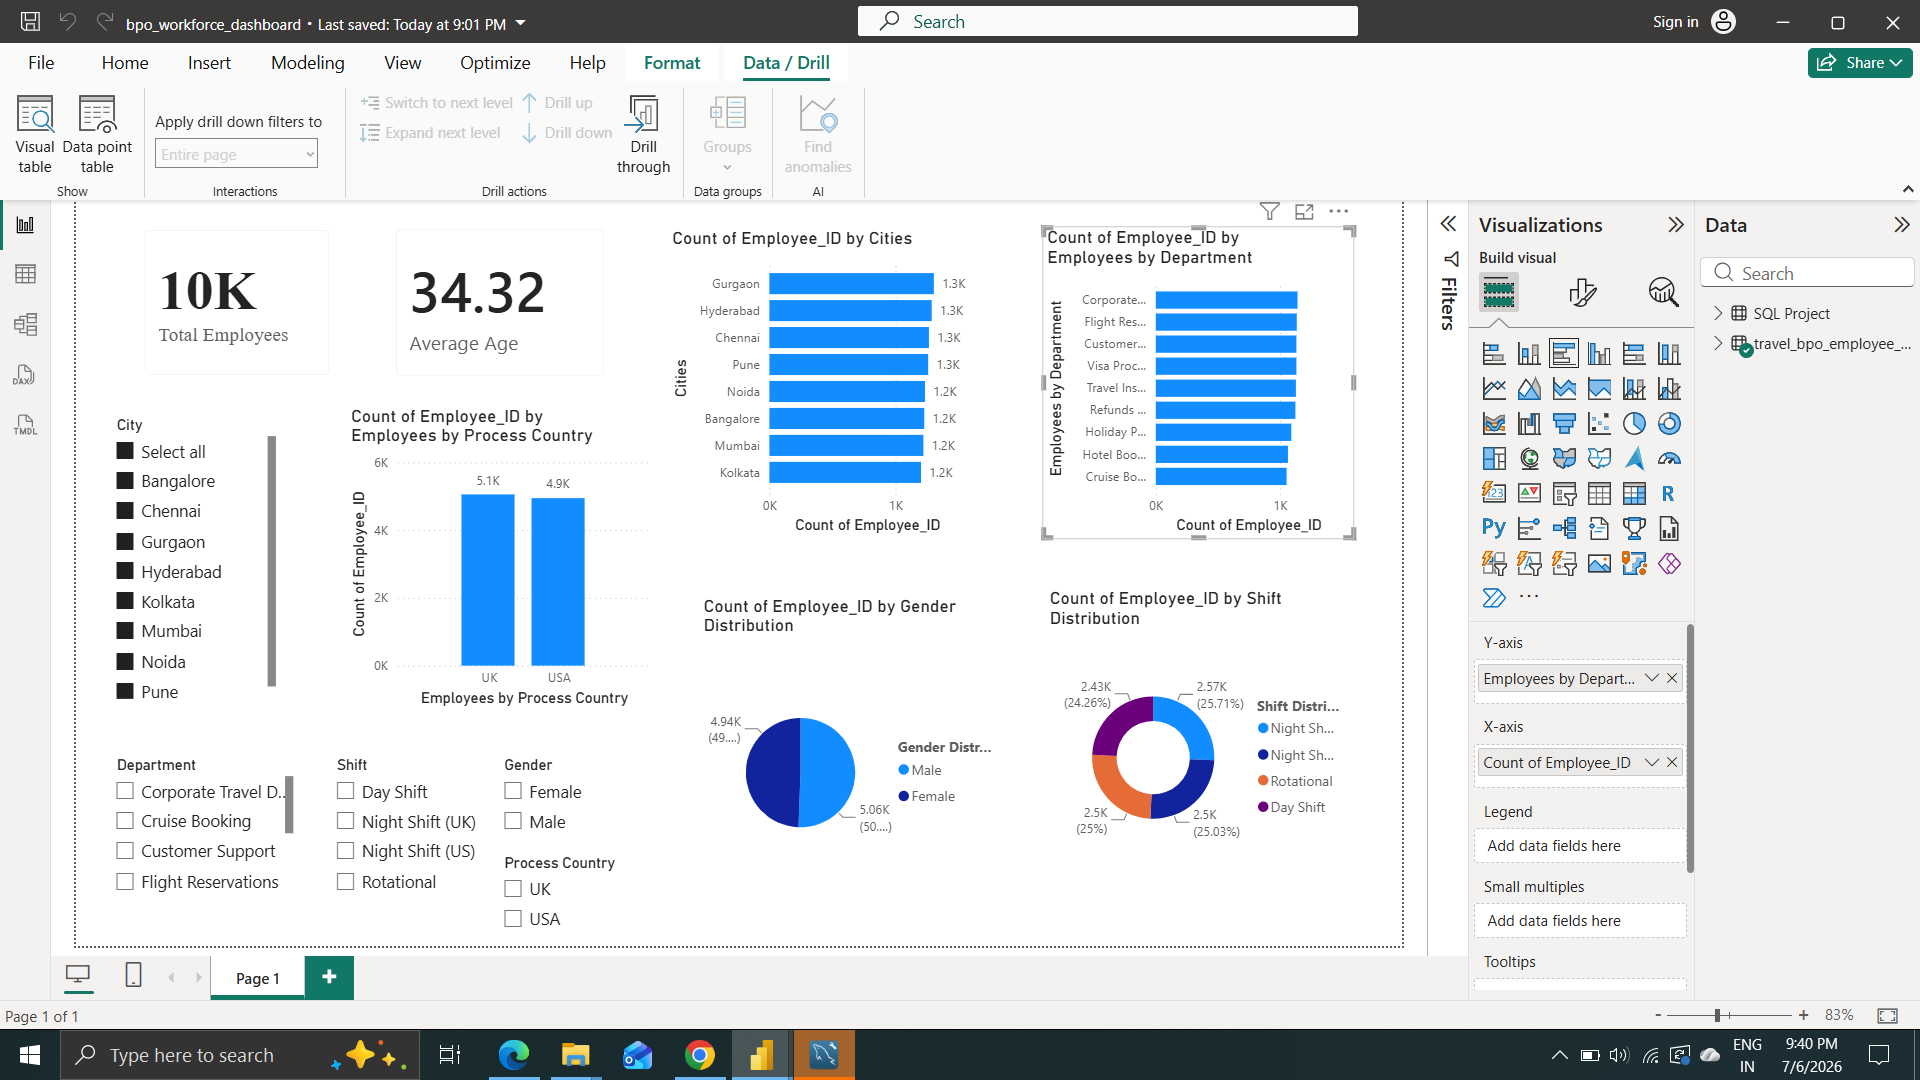

This screenshot's page, from the dashboard's own definition file:
{"tool":"powerbi","page":{"name":"Page 1","canvas":[1280,720],"ordinal":0},"visuals":[{"type":"cardVisual","fields":{"Data":["Count(travel_bpo_employee_data_simplified.Employee_ID)"]},"box":[49.5,12.1,212.3,174.9],"z":0},{"type":"cardVisual","fields":{"Data":["Avg(travel_bpo_employee_data_simplified.Age)"]},"box":[292,10.9,235.3,176.1],"z":1000},{"type":"clusteredBarChart","fields":{"Category":["travel_bpo_employee_data_simplified.City"],"Y":["CountNonNull(travel_bpo_employee_data_simplified.Employee_ID)"]},"box":[570.6,26.5,300.4,300.4],"z":2000},{"type":"pieChart","fields":{"Category":["travel_bpo_employee_data_simplified.Gender"],"Y":["CountNonNull(travel_bpo_employee_data_simplified.Employee_ID)"]},"box":[600.8,381.2,294.4,301.6],"z":3000},{"type":"clusteredBarChart","fields":{"Category":["travel_bpo_employee_data_simplified.Department"],"Y":["CountNonNull(travel_bpo_employee_data_simplified.Employee_ID)"]},"box":[932.6,25.3,301.6,301.6],"z":4000},{"type":"donutChart","fields":{"Category":["travel_bpo_employee_data_simplified.Shift"],"Y":["CountNonNull(travel_bpo_employee_data_simplified.Employee_ID)"]},"box":[935,374,296.8,287.1],"z":5000},{"type":"clusteredColumnChart","fields":{"Category":["travel_bpo_employee_data_simplified.Process_Country"],"Y":["CountNonNull(travel_bpo_employee_data_simplified.Employee_ID)"]},"box":[260.6,197.9,299.2,295.6],"z":6000},{"type":"slicer","fields":{"Values":["travel_bpo_employee_data_simplified.City"]},"box":[26.5,203.9,171.3,282.3],"z":7000},{"type":"slicer","fields":{"Values":["travel_bpo_employee_data_simplified.Department"]},"box":[26.5,532,188.2,149.6],"z":8000},{"type":"slicer","fields":{"Values":["travel_bpo_employee_data_simplified.Gender"]},"box":[400.5,532,112.2,105],"z":9000},{"type":"slicer","fields":{"Values":["travel_bpo_employee_data_simplified.Shift"]},"box":[238.9,532,171.3,150.8],"z":10000},{"type":"slicer","fields":{"Values":["travel_bpo_employee_data_simplified.Process_Country"]},"box":[400.5,626.1,148.4,94.1],"z":11000}]}

Visuals, with their boxes on the page's 1280x720 design canvas (x1, y1, x2, y2). These are canvas units, not pixel positions in the 1920x1080 screenshot, which may show the page scaled, cropped or inside an application window:
cardVisual - Count(travel_bpo_employee_data_simplified.Employee_ID): (50,12,262,187)
cardVisual - Avg(travel_bpo_employee_data_simplified.Age): (292,11,527,187)
clusteredBarChart - travel_bpo_employee_data_simplified.City x CountNonNull(travel_bpo_employee_data_simplified.Employee_ID): (571,26,871,327)
pieChart - travel_bpo_employee_data_simplified.Gender x CountNonNull(travel_bpo_employee_data_simplified.Employee_ID): (601,381,895,683)
clusteredBarChart - travel_bpo_employee_data_simplified.Department x CountNonNull(travel_bpo_employee_data_simplified.Employee_ID): (933,25,1234,327)
donutChart - travel_bpo_employee_data_simplified.Shift x CountNonNull(travel_bpo_employee_data_simplified.Employee_ID): (935,374,1232,661)
clusteredColumnChart - travel_bpo_employee_data_simplified.Process_Country x CountNonNull(travel_bpo_employee_data_simplified.Employee_ID): (261,198,560,494)
slicer - travel_bpo_employee_data_simplified.City: (26,204,198,486)
slicer - travel_bpo_employee_data_simplified.Department: (26,532,215,682)
slicer - travel_bpo_employee_data_simplified.Gender: (400,532,513,637)
slicer - travel_bpo_employee_data_simplified.Shift: (239,532,410,683)
slicer - travel_bpo_employee_data_simplified.Process_Country: (400,626,549,720)
